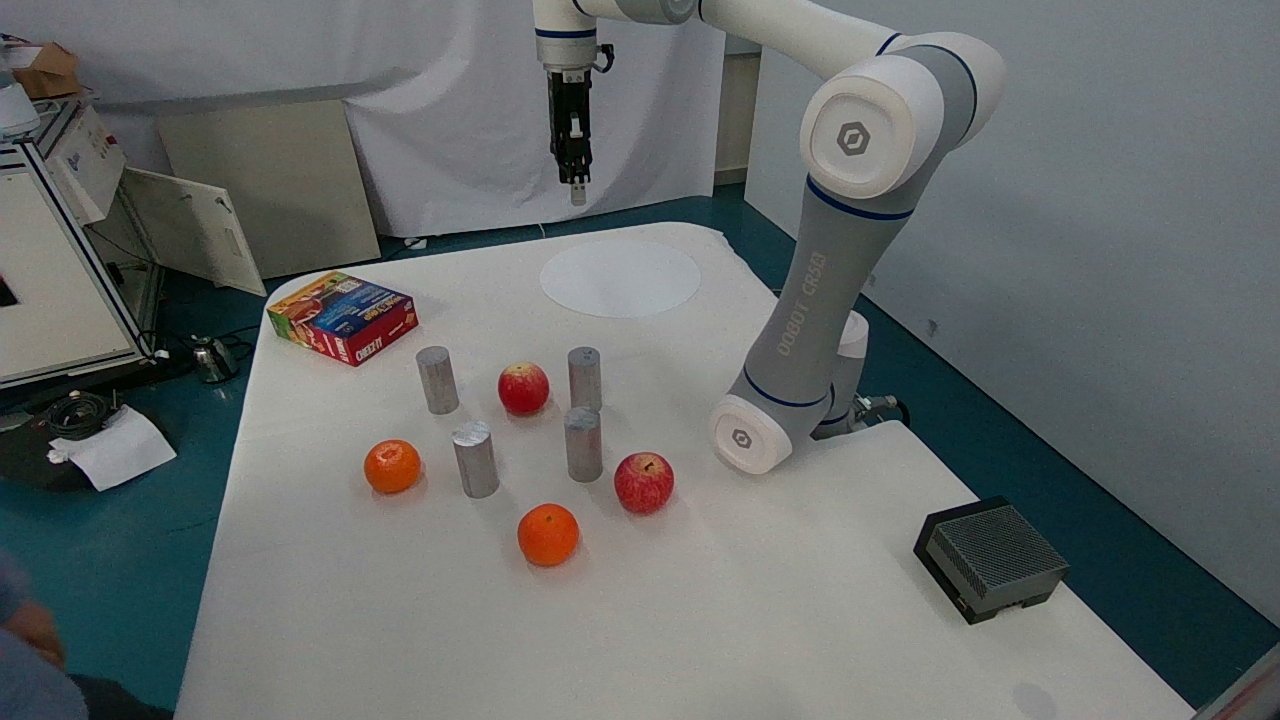apple: (511, 485, 586, 567), (354, 424, 430, 502)
metal rod: (604, 443, 688, 522), (490, 346, 553, 417)
orange: (438, 408, 507, 505), (543, 397, 608, 481), (554, 329, 612, 416), (410, 341, 463, 419)
